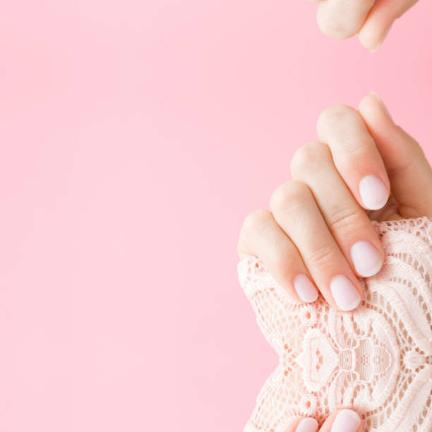Nail: (350, 241, 383, 277), (330, 275, 361, 311), (359, 175, 389, 210), (330, 409, 361, 432), (294, 274, 318, 302), (295, 418, 318, 432)
